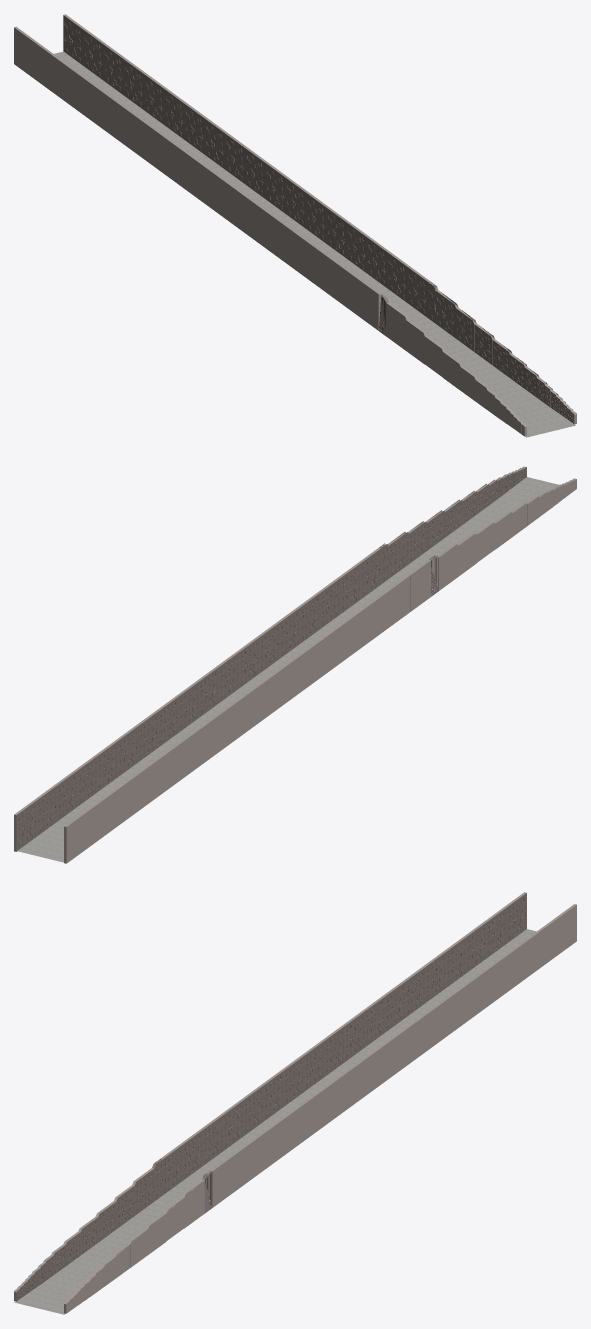
File: koridorv2.fbx
The picture shows the model from 3 angles, top to bottom: view 1: azimuth 30°, elevation 25°; view 2: azimuth 150°, elevation 25°; view 3: azimuth 330°, elevation 25°; orthographic projection.
Visible parts, largest first — view 1: Contrete Wall.003; view 2: Contrete Wall.003; view 3: Contrete Wall.003.
Boxes of the visible parts, x1=… form: Contrete Wall.003: x1=14, y1=14, x2=576, y2=437; Contrete Wall.003: x1=14, y1=466, x2=576, y2=863; Contrete Wall.003: x1=14, y1=892, x2=576, y2=1314.
Size of the model in its own units: 2928 by 1962 by 49509.
Materials: 2 (2 with a texture image).
